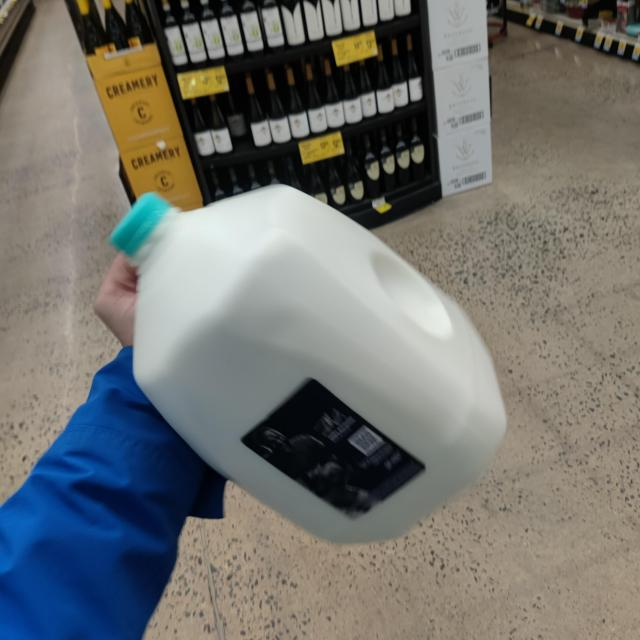Milk: (109, 194, 509, 551)
